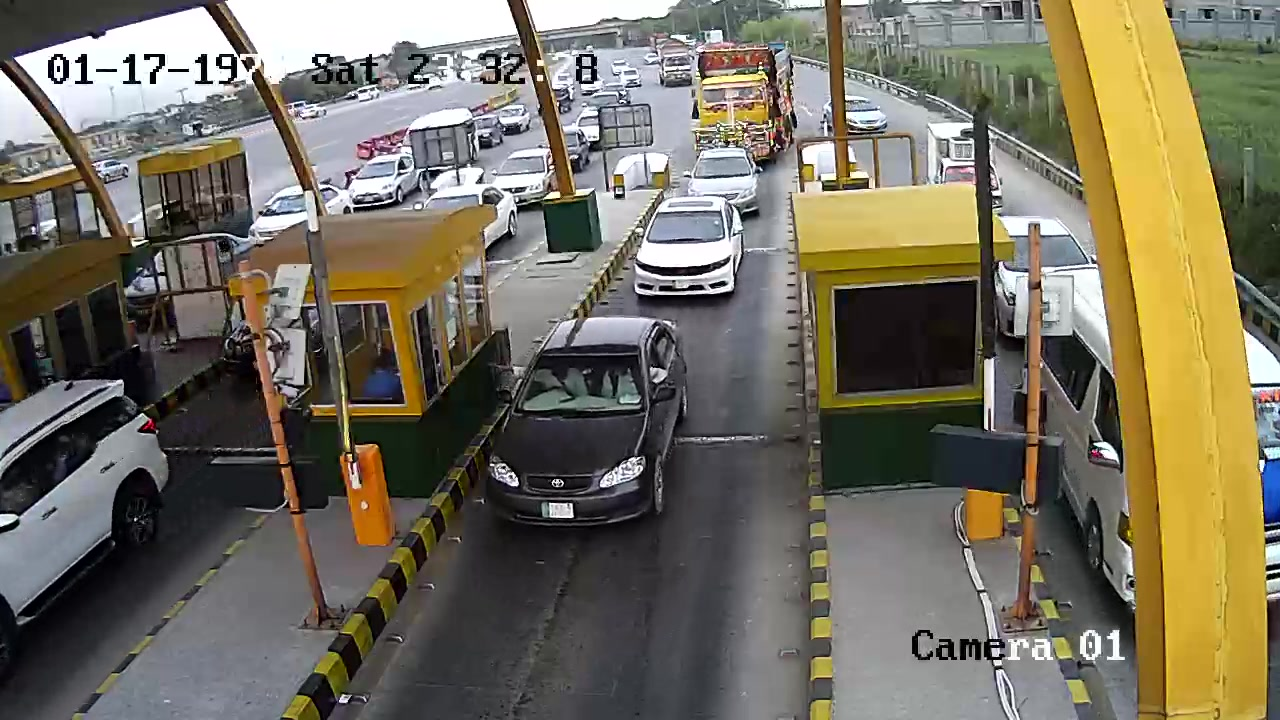F1: (478, 314, 706, 546), (632, 190, 744, 307)
